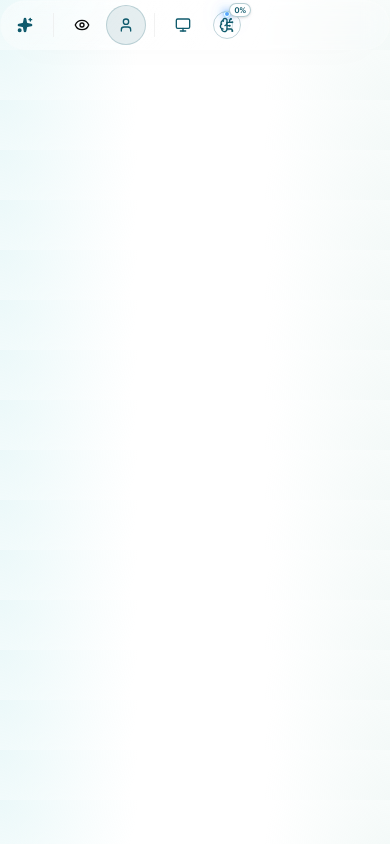
Test: TopbarActionCluster › integra la preview flash dentro la capsula madre del cluster
What coordinates should you click on to do the following:
click the button with test id "topbar-flash-trigger"
I would click on:
 (25, 25)
Its box is [5,5,45,45].
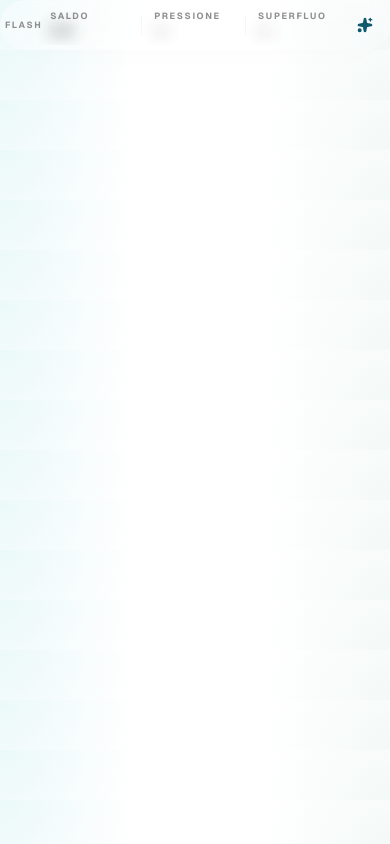
expect the button with test id "topbar-flash-trigger" is expanded: met, box [345,5,385,45]
